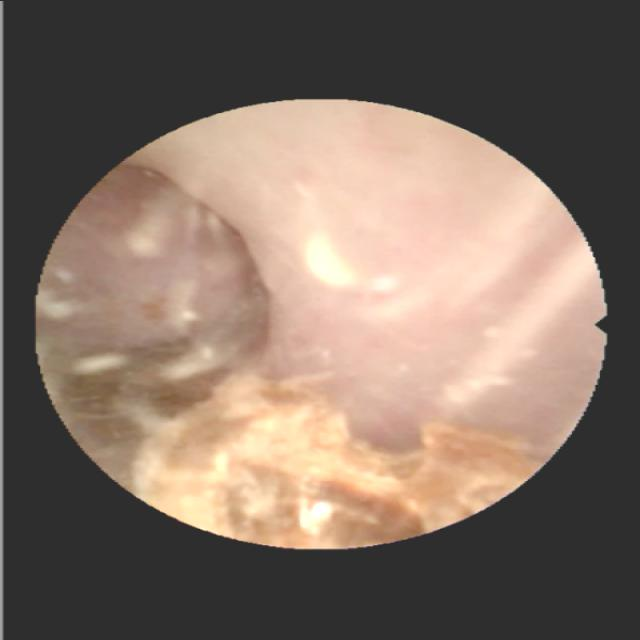stone: (53, 340, 542, 545), (305, 229, 353, 284)
